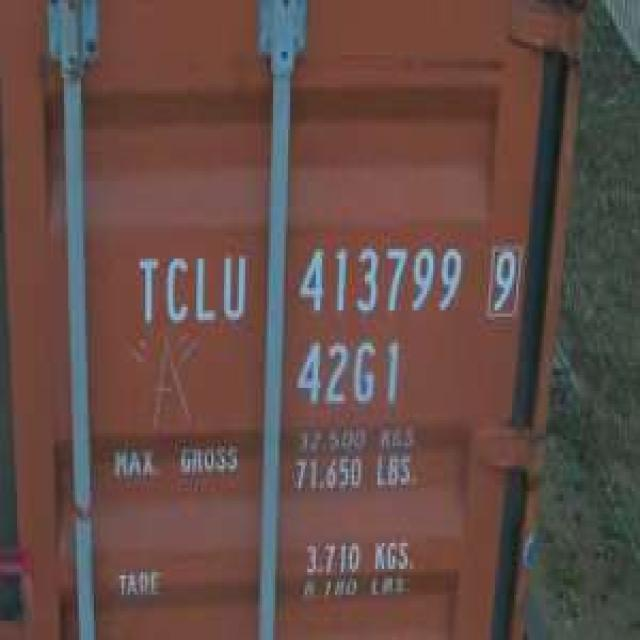dv: (487, 242, 519, 319)
owner: (133, 250, 250, 325)
serial: (296, 241, 463, 321)
size: (287, 333, 408, 411)
